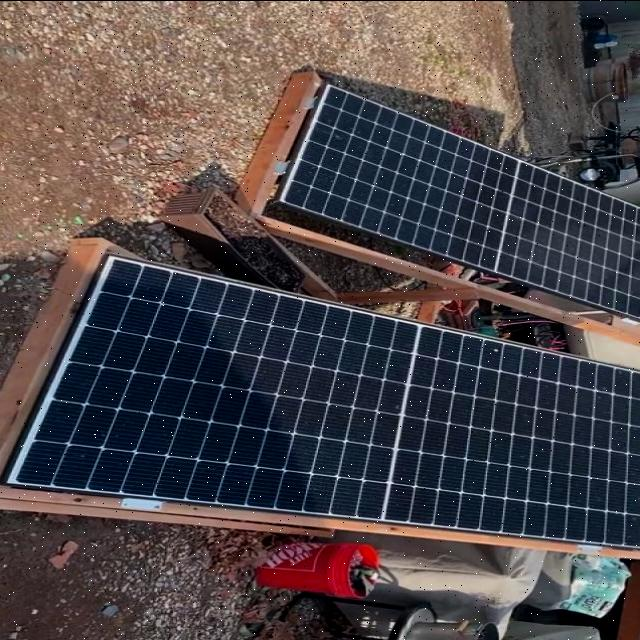Normal Solar Panel: (3, 255, 637, 546), (280, 82, 639, 316)
